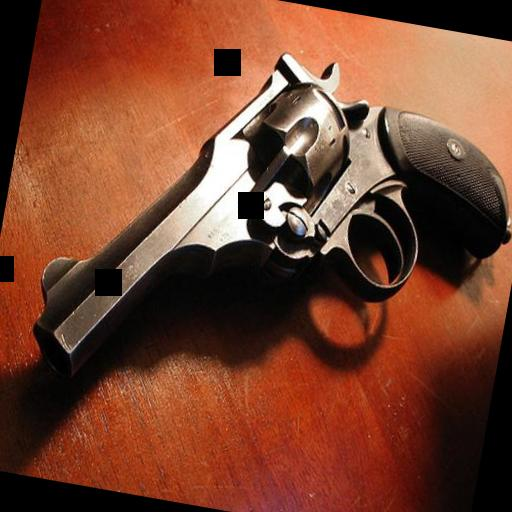Handgun: (20, 12, 512, 457)
